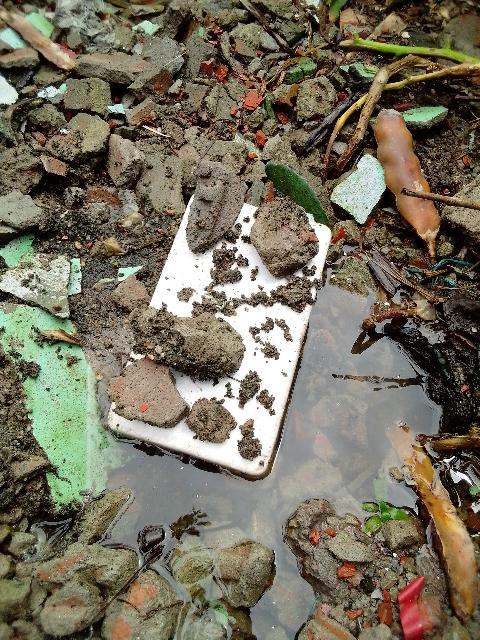cocksheet: (187, 265, 315, 478)
